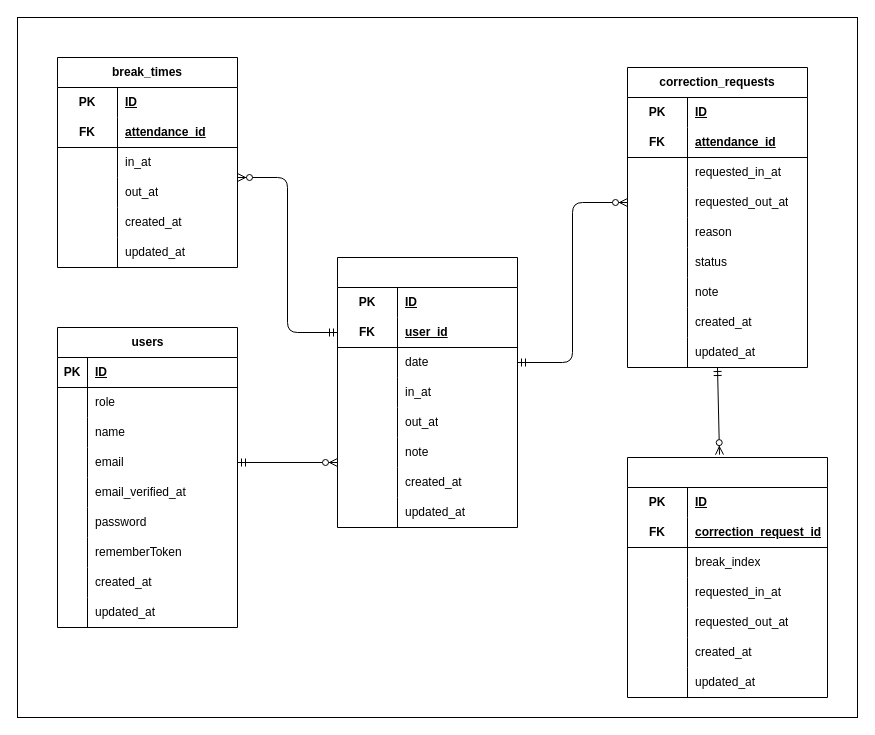
Image size: 875x735. Some labels were removed from this diagram. Here are the shapes that lost their labels. From the top down, the box of each, then its label:
(336, 256, 518, 528): attendances
(626, 456, 828, 698): correction_request_break_times
